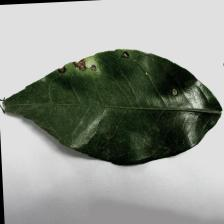canker: (52, 36, 187, 109)
